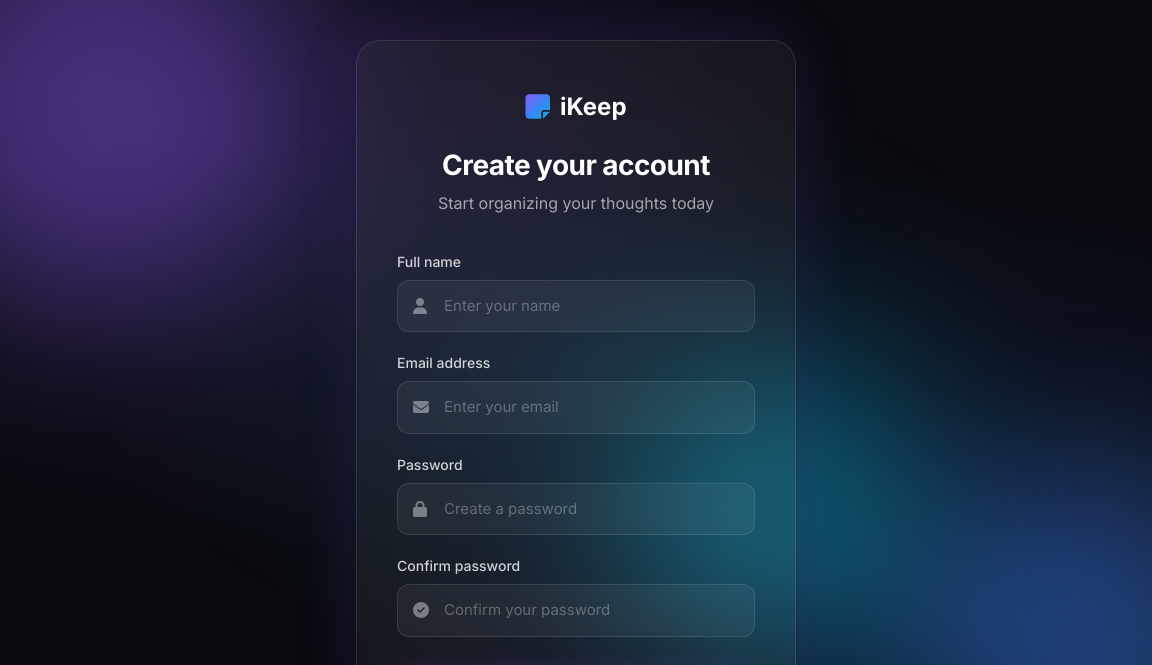
it: Signup Component › enables submit button when form is valid
Type "John Doe" into the field with placeholder "Enter your name" at (576, 306), box top-left (397, 280), bottom-right (755, 332)
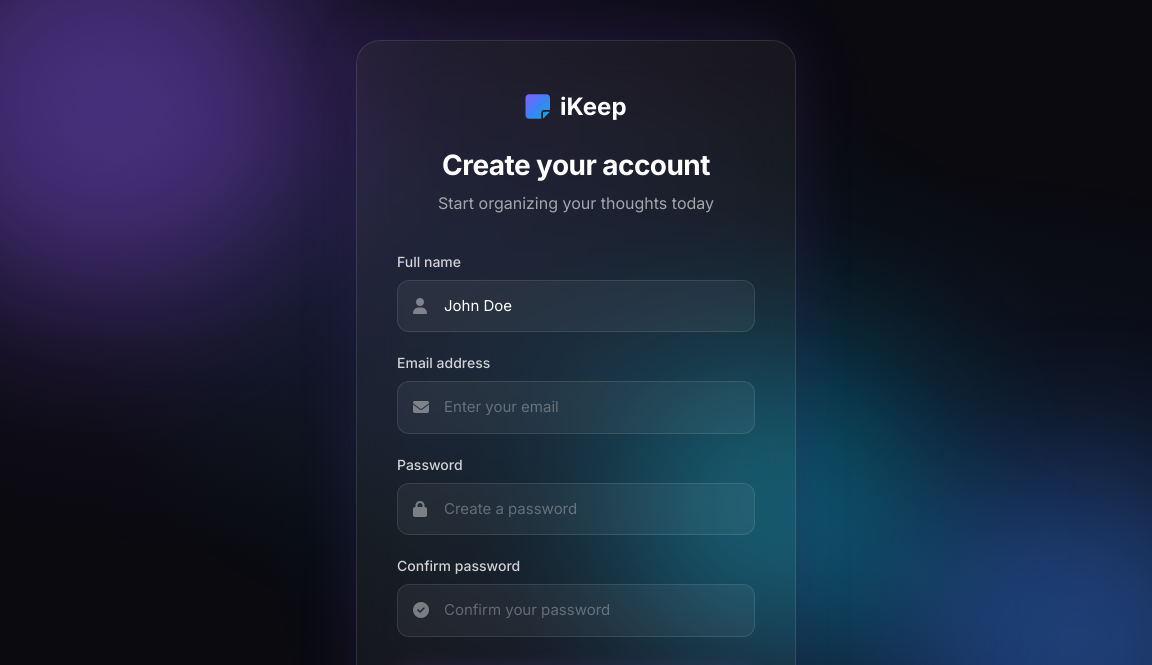
Type "john@example.com" into the field with placeholder "Enter your email" at (576, 407), box top-left (397, 381), bottom-right (755, 434)
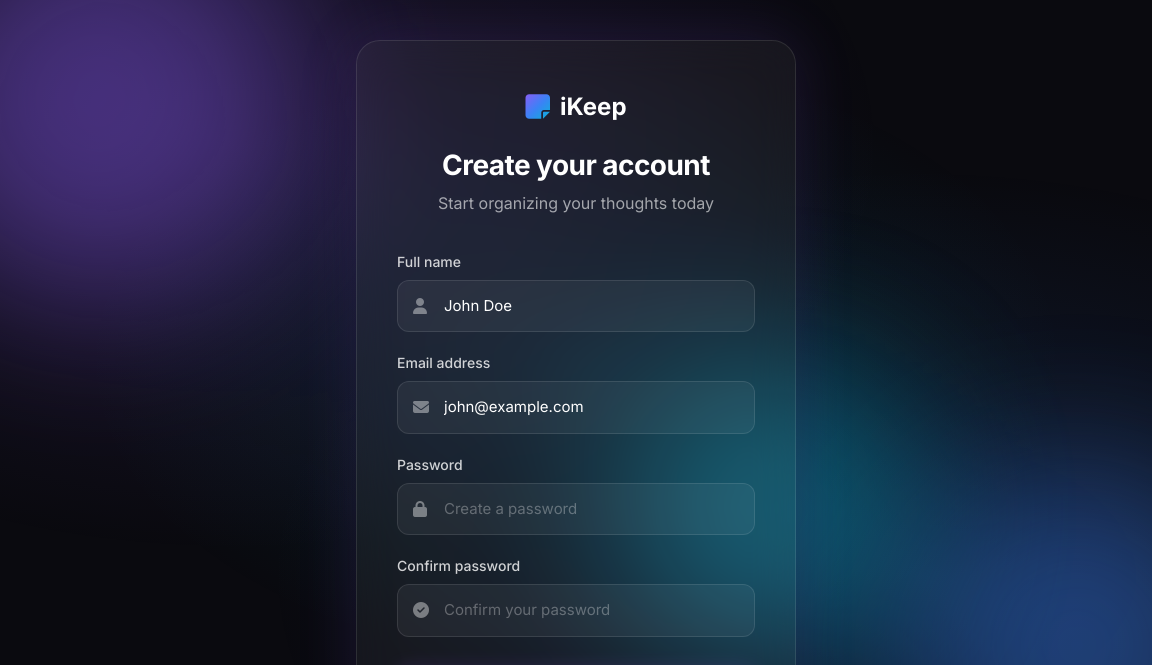
Type "password1234" into the password field with placeholder "Create a password" at (576, 509), box top-left (397, 483), bottom-right (755, 535)
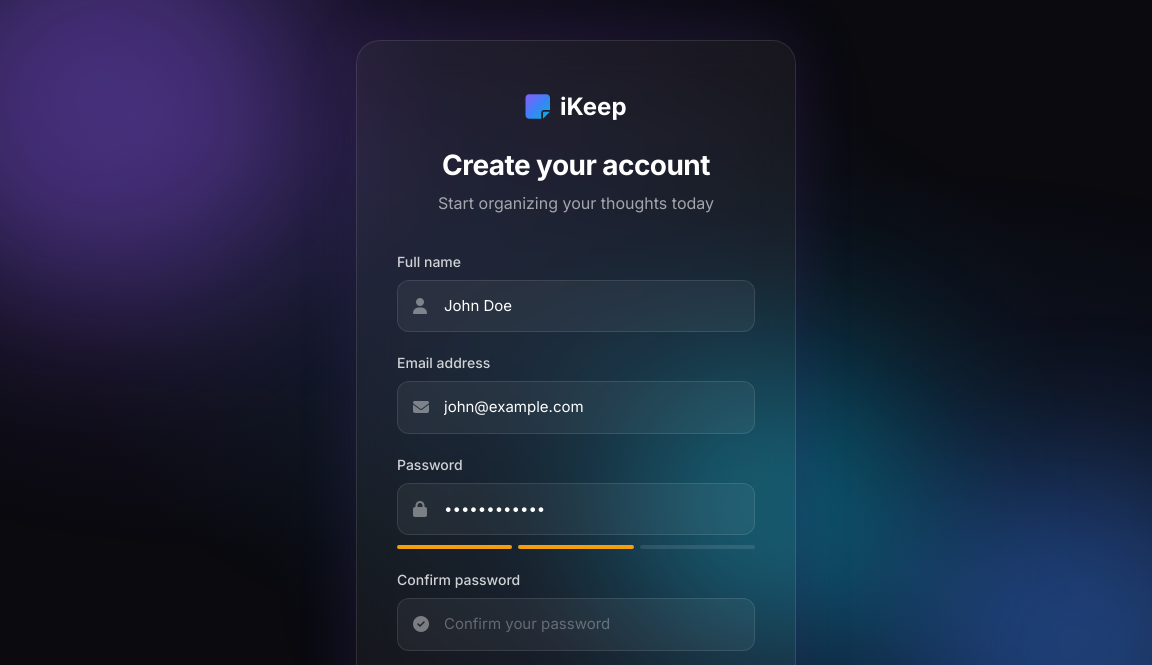
Type "password1234" into the password field with placeholder "Confirm your password" at (576, 624), box top-left (397, 598), bottom-right (755, 651)
(page scrolled)
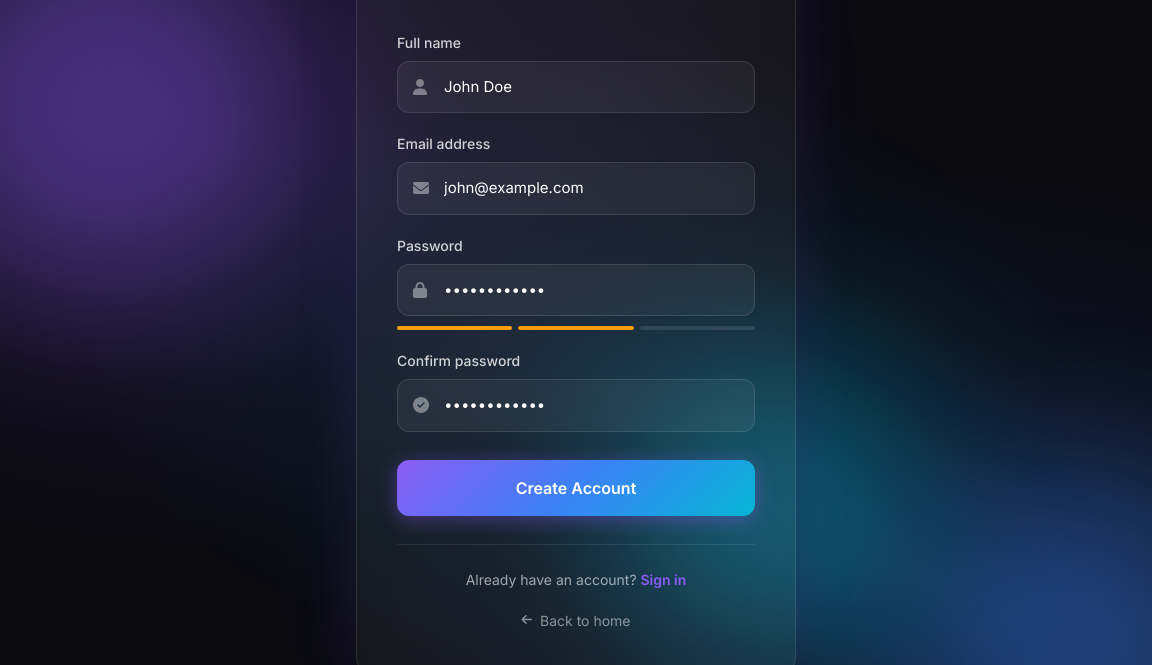
Check: the button "Create Account" is enabled, box top-left (397, 460), bottom-right (755, 516)
